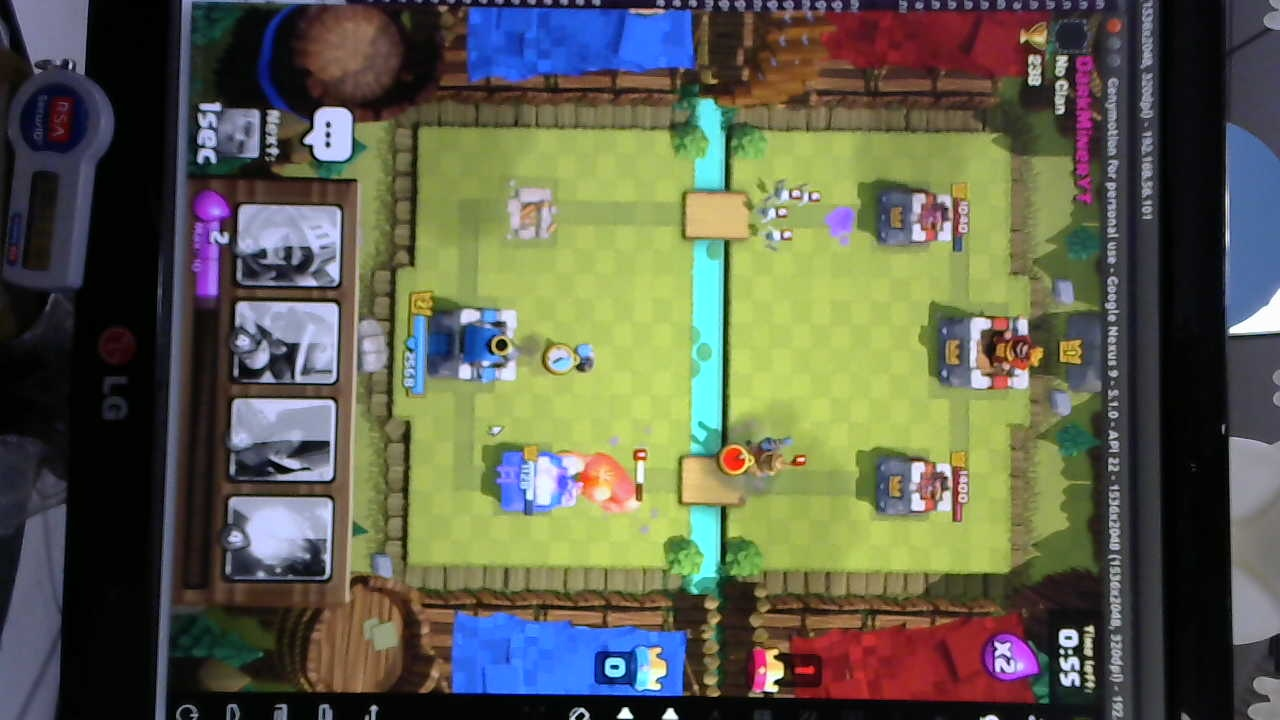bomb: (539, 340, 600, 379)
princeE: (717, 437, 804, 481)
